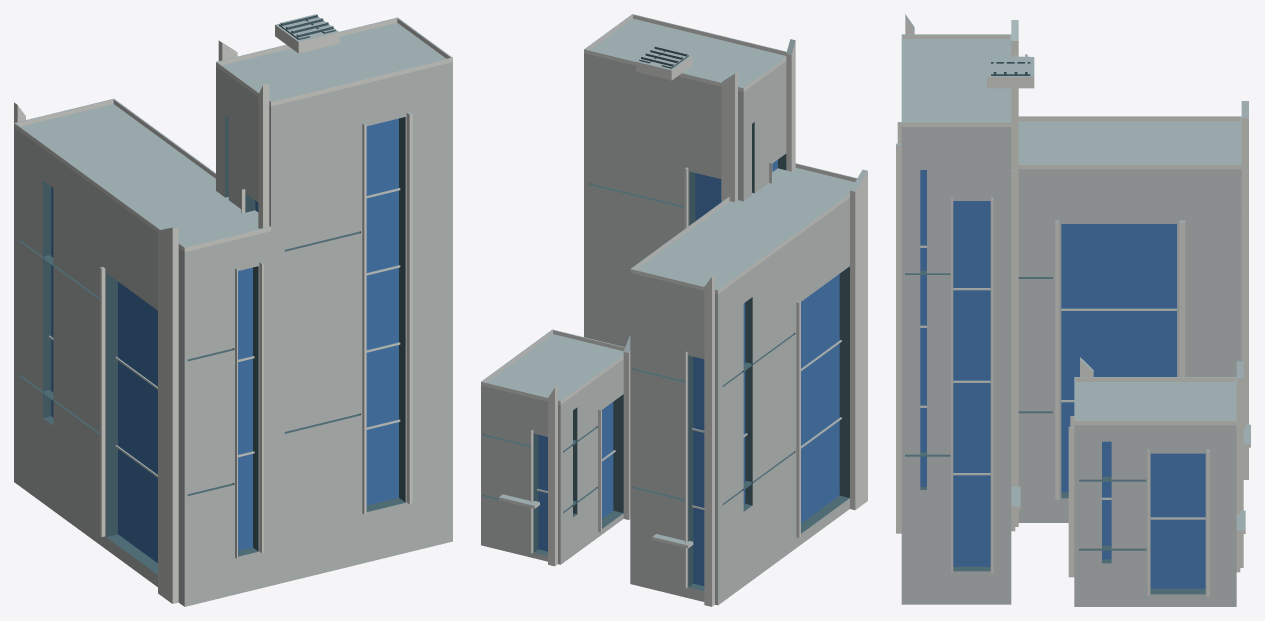
The model's file is 15_Gartenwinkel.obj.
The picture shows the model from 3 angles, left to right: view 1: azimuth 30°, elevation 25°; view 2: azimuth 150°, elevation 25°; view 3: azimuth 270°, elevation 25°; orthographic projection. The views are drawn at different scales.
Bounding box in the file's own units: 0.5928 × 1 × 0.6441.
